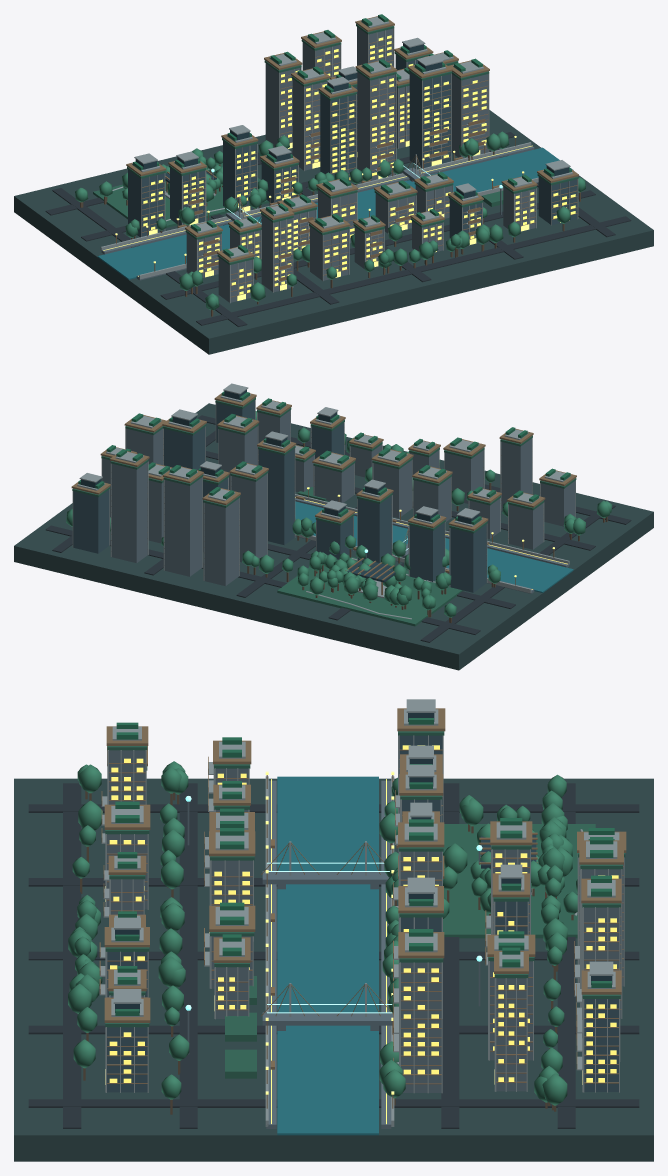
Rendered from regeneration.glb.
The picture shows the model from 3 angles, top to bottom: view 1: azimuth 30°, elevation 25°; view 2: azimuth 150°, elevation 25°; view 3: azimuth 270°, elevation 25°; orthographic projection. The views are drawn at different scales.
Parts seen in each view (by area): view 1: District foundation, Detail_Detail architectural limestone, Detail_Detail brushed bronze, River corridor, Building_20, Building_24, Detail_Detail roof gardens, Avenue, Building_15, Building_28, Building_16, Building_17 (+26 smaller); view 2: District foundation, Detail_Detail architectural limestone, Detail_Detail brushed bronze, Building_22, Building_26, Riverside park, Detail_Detail roof gardens, River corridor, Building_17, Building_15, Building_16, Building_03 (+29 smaller); view 3: District foundation, River corridor, Detail_Detail architectural limestone, Detail_Detail brushed bronze, Detail_Detail roof gardens, Riverside park, Avenue.001, Avenue, Building_28, Cross street.004, Avenue.002, Avenue.003 (+27 smaller).
Boxes of the visible parts, left/top/right/bottom form: District foundation: left=14, top=110, right=653, bottom=354; Detail_Detail architectural limestone: left=100, top=16, right=578, bottom=303; Detail_Detail brushed bronze: left=116, top=16, right=578, bottom=297; River corridor: left=97, top=147, right=573, bottom=279; Building_20: left=357, top=72, right=395, bottom=180; Building_24: left=409, top=72, right=450, bottom=168; Detail_Detail roof gardens: left=133, top=14, right=571, bottom=256; Avenue: left=196, top=216, right=631, bottom=325; Building_15: left=320, top=94, right=355, bottom=184; Building_28: left=451, top=74, right=488, bottom=158; Building_16: left=292, top=79, right=327, bottom=170; Building_17: left=265, top=63, right=300, bottom=147; District foundation: left=14, top=403, right=653, bottom=670; Detail_Detail architectural limestone: left=72, top=383, right=575, bottom=598; Detail_Detail brushed bronze: left=71, top=393, right=576, bottom=594; Building_22: left=164, top=477, right=202, bottom=576; Building_26: left=111, top=462, right=147, bottom=563; Riverside park: left=277, top=556, right=463, bottom=626; Detail_Detail roof gardens: left=78, top=391, right=570, bottom=524; River corridor: left=295, top=501, right=573, bottom=592; Building_17: left=204, top=498, right=239, bottom=585; Building_15: left=258, top=448, right=294, bottom=545; Building_16: left=231, top=474, right=267, bottom=562; Building_03: left=450, top=524, right=486, bottom=592; District foundation: left=14, top=778, right=653, bottom=1161; River corridor: left=277, top=776, right=378, bottom=1135; Detail_Detail architectural limestone: left=100, top=699, right=624, bottom=1126; Detail_Detail brushed bronze: left=99, top=708, right=626, bottom=1108; Detail_Detail roof gardens: left=115, top=718, right=614, bottom=1015; Riverside park: left=443, top=824, right=595, bottom=938; Avenue.001: left=179, top=783, right=197, bottom=1128; Avenue: left=63, top=783, right=81, bottom=1128; Building_28: left=401, top=962, right=441, bottom=1092; Cross street.004: left=28, top=1099, right=639, bottom=1107; Avenue.002: left=441, top=783, right=459, bottom=1128; Avenue.003: left=557, top=783, right=575, bottom=1128.
Size of the model in its own units: 29 by 8 by 22.
